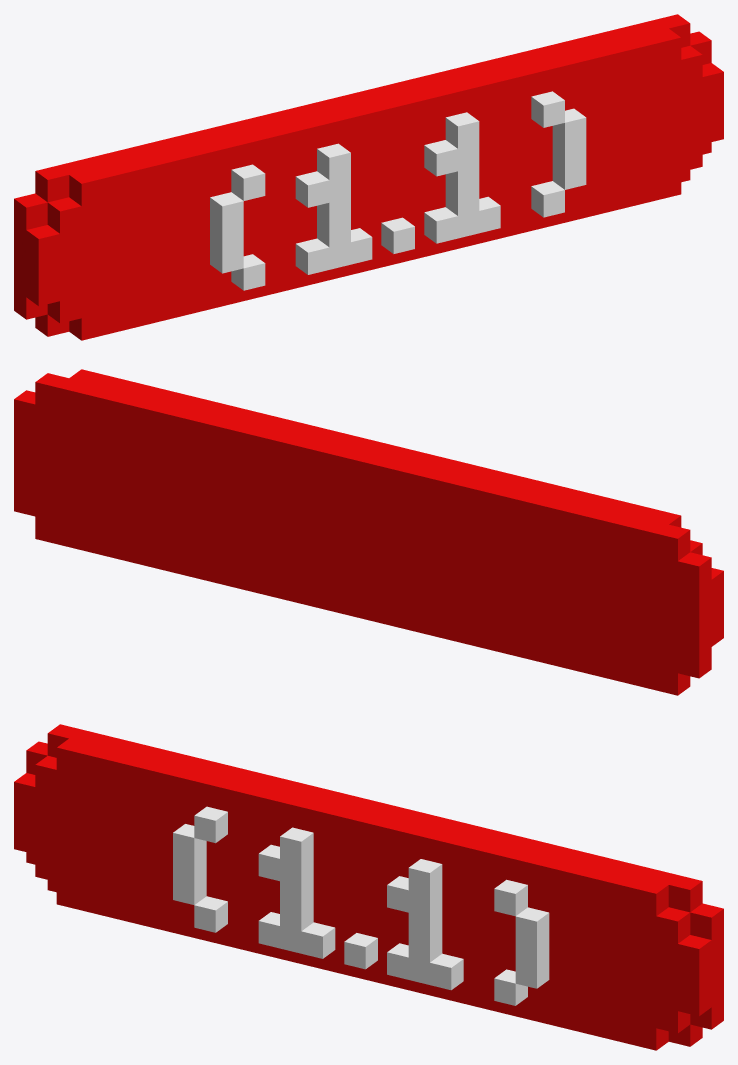
Rendered from lvl1.1.obj.
3 views of the same model, one above another, from view 1: azimuth 30°, elevation 25°; view 2: azimuth 150°, elevation 25°; view 3: azimuth 330°, elevation 25° (orthographic).
Parts seen in each view (by area): view 1: lvl1.1; view 2: lvl1.1; view 3: lvl1.1.
Boxes of the visible parts, left/top/right/bottom form: lvl1.1: left=14, top=14, right=723, bottom=340; lvl1.1: left=14, top=369, right=723, bottom=695; lvl1.1: left=14, top=724, right=723, bottom=1050.
Size of the model in its own units: 32 by 7 by 3.
Materials: 1 (1 with a texture image).
